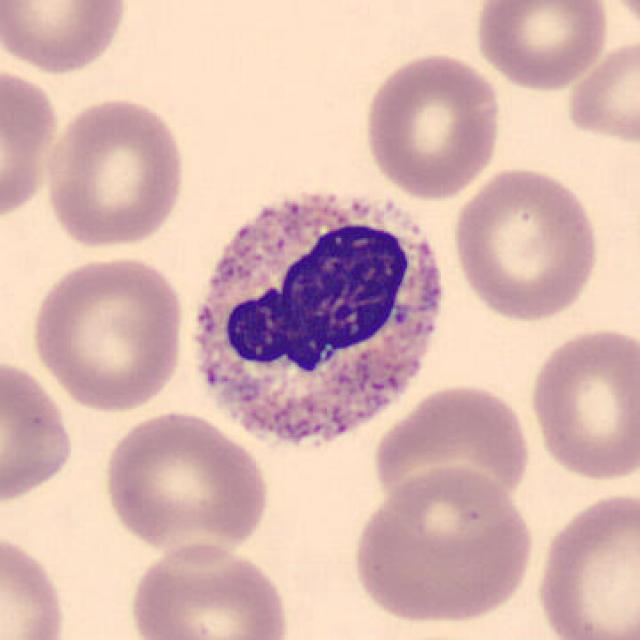Neutrophil: (176, 173, 460, 471)
RBC: (346, 466, 538, 628), (98, 407, 272, 559), (27, 252, 188, 414), (448, 162, 603, 324), (41, 94, 190, 250), (370, 379, 535, 517), (359, 49, 505, 201), (524, 322, 638, 484), (124, 539, 293, 640), (529, 486, 638, 640), (471, 0, 613, 93), (0, 352, 76, 509), (0, 62, 62, 225), (0, 0, 132, 76), (562, 33, 640, 150), (0, 527, 69, 640), (601, 0, 640, 41)
